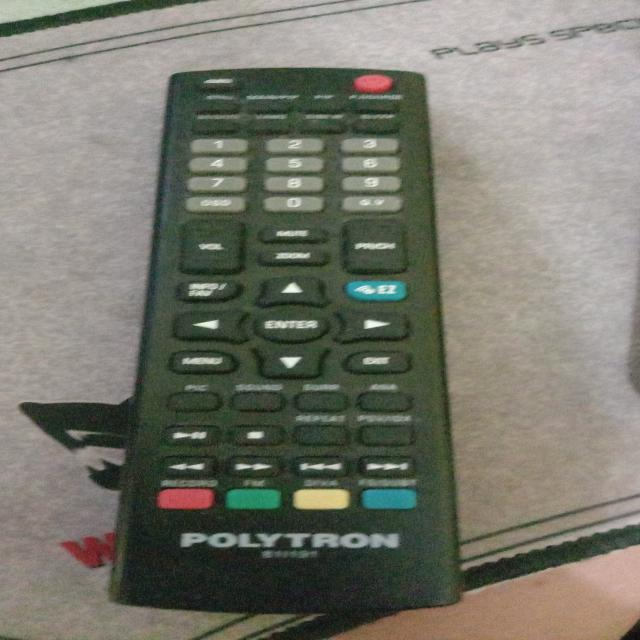remote: (89, 68, 459, 612)
